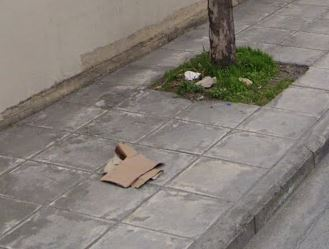trash: (104, 139, 169, 189), (179, 67, 217, 90), (235, 73, 255, 90)
